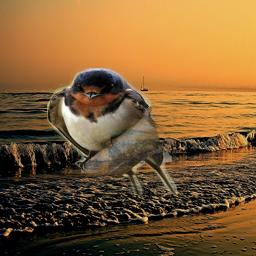Swallow: (47, 68, 177, 195)
